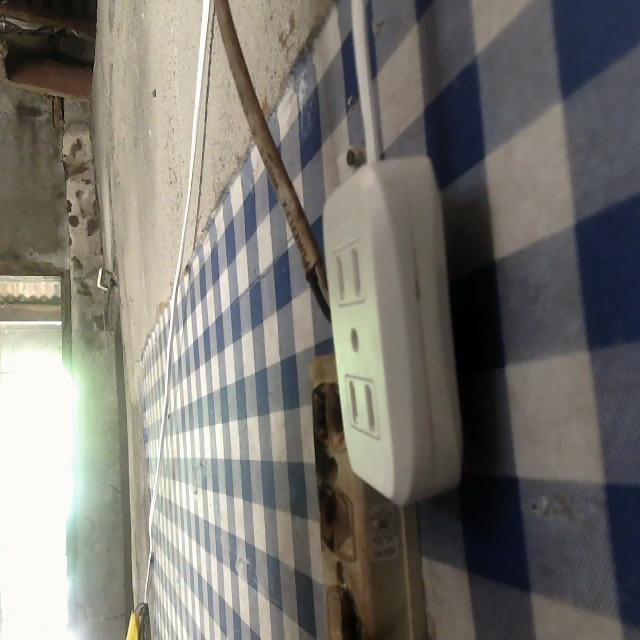-: (306, 384, 351, 444), (309, 480, 337, 553), (334, 578, 367, 638)
